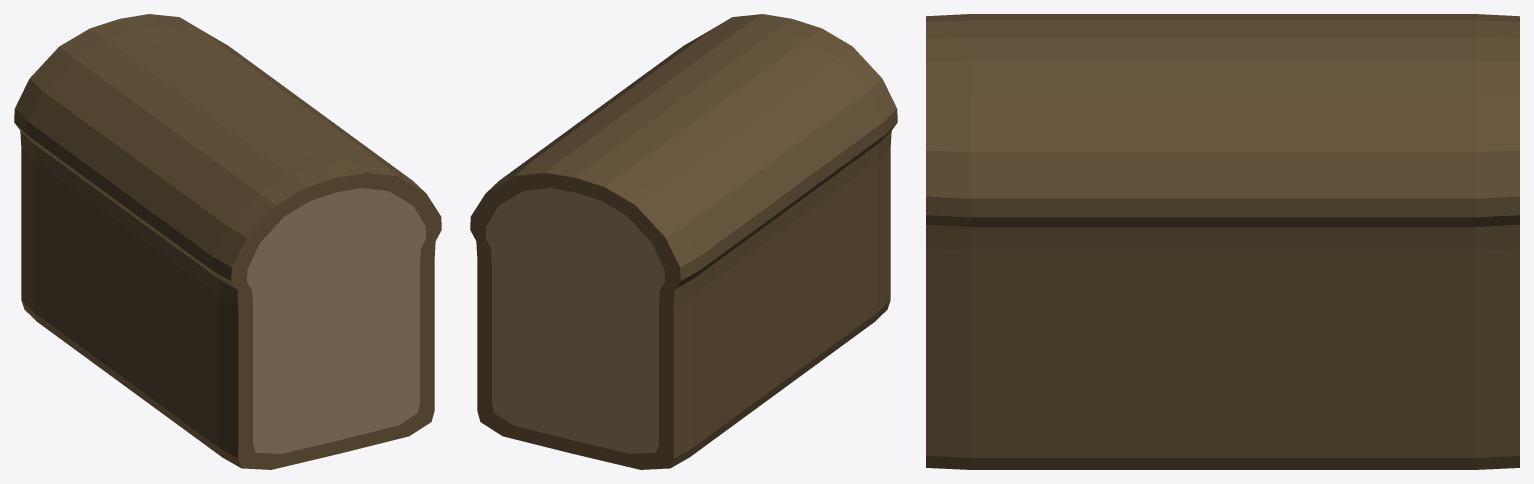
Rendered from quaternius-ultimate-food-bread.glb.
3 renders of one model, left to right at view 1: azimuth 30°, elevation 25°; view 2: azimuth 150°, elevation 25°; view 3: azimuth 270°, elevation 25°, orthographic. The views are drawn at different scales.
Visible parts, largest first — view 1: Bread; view 2: Bread; view 3: Bread.
Boxes of the visible parts, x1=… form: Bread: x1=14, y1=14, x2=441, y2=469; Bread: x1=470, y1=14, x2=897, y2=469; Bread: x1=926, y1=14, x2=1519, y2=469.
Size of the model in its own units: 0.6933 by 0.847 by 1.2.
